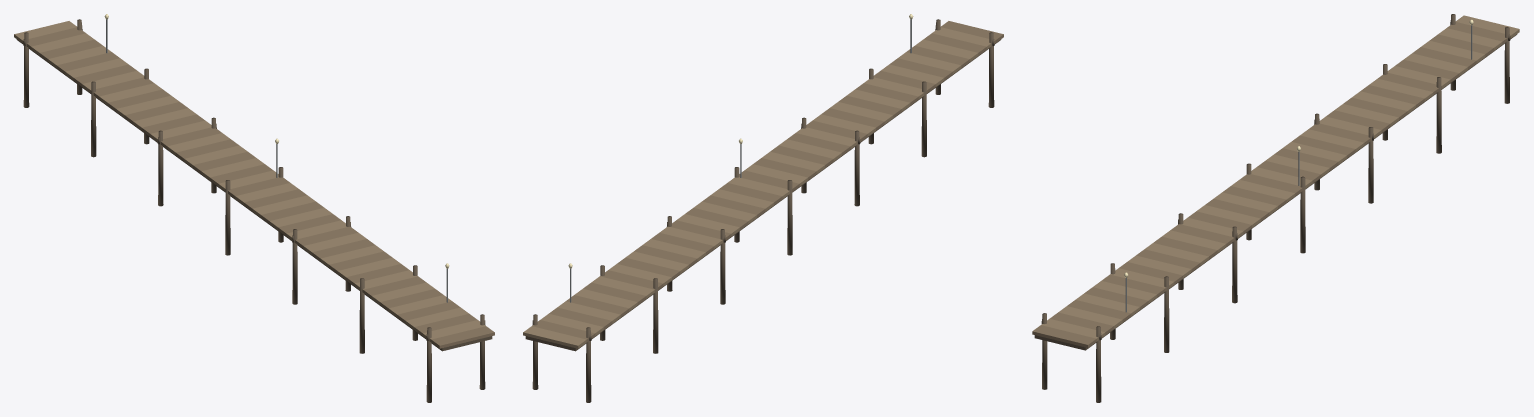
The model's file is marina-pier.glb.
3 renders of one model, left to right at view 1: azimuth 30°, elevation 25°; view 2: azimuth 150°, elevation 25°; view 3: azimuth 330°, elevation 25°, orthographic.
Visible parts, largest first — view 1: marina-pier: Palm Bay deck2, marina-pier: Palm Bay deck, marina-pier: Palm Bay piling; view 2: marina-pier: Palm Bay deck, marina-pier: Palm Bay deck2, marina-pier: Palm Bay piling; view 3: marina-pier: Palm Bay deck2, marina-pier: Palm Bay deck, marina-pier: Palm Bay piling.
Part boxes in pixels (x1,y1,x2,y2): marina-pier: Palm Bay deck2: (22, 27, 494, 348); marina-pier: Palm Bay deck: (14, 21, 485, 342); marina-pier: Palm Bay piling: (16, 19, 492, 402); marina-pier: Palm Bay deck: (523, 27, 995, 348); marina-pier: Palm Bay deck2: (532, 21, 1003, 342); marina-pier: Palm Bay piling: (525, 19, 1001, 402); marina-pier: Palm Bay deck2: (1032, 22, 1510, 347); marina-pier: Palm Bay deck: (1041, 15, 1519, 341); marina-pier: Palm Bay piling: (1034, 14, 1517, 402).
Bounding box in the file's own units: 5.98 × 10.05 × 75.
